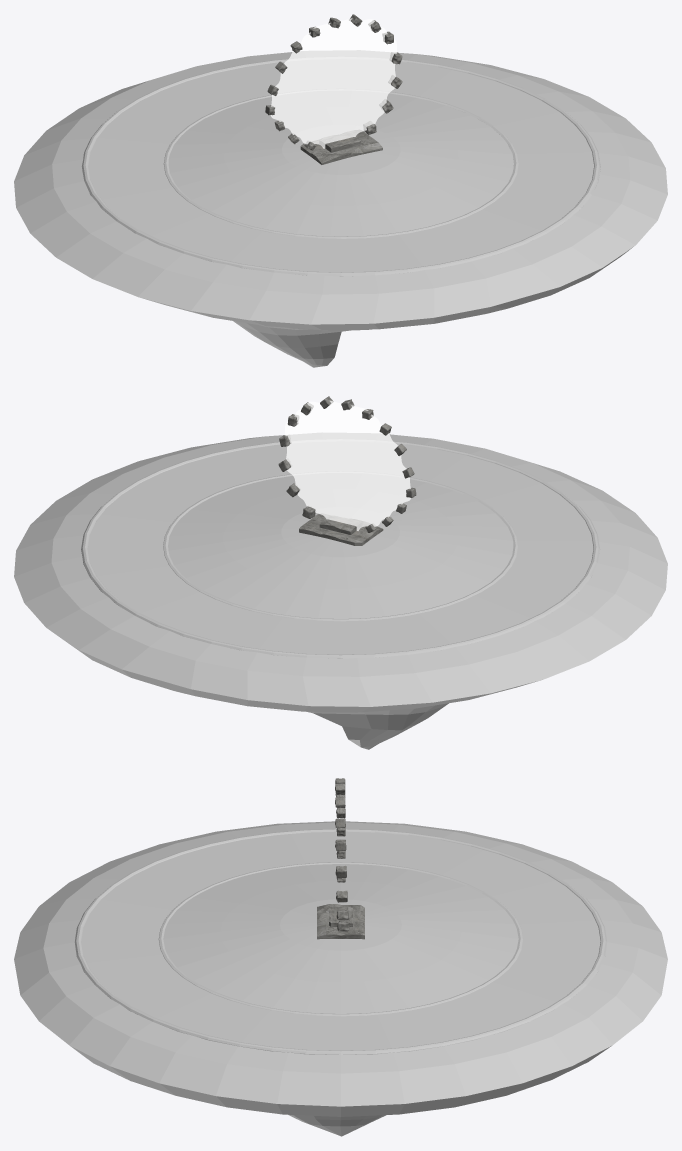
The model's file is Island.gltf.
3 renders of one model, top to bottom at view 1: azimuth 30°, elevation 25°; view 2: azimuth 150°, elevation 25°; view 3: azimuth 270°, elevation 25°, orthographic. The views are drawn at different scales.
Visible parts, largest first — view 1: Sphere, Plane, Torus.001, Torus, Cube.002, Cube.001; view 2: Sphere, Plane, Torus.001, Torus, Cube.002, Cube.001; view 3: Sphere, Torus.001, Torus, Cube.002.
Part boxes in pixels (box(x1,y1,x2,y2)): Sphere: box(14, 50, 667, 367); Plane: box(270, 18, 396, 148); Torus.001: box(82, 56, 600, 276); Torus: box(163, 89, 518, 238); Cube.002: box(300, 130, 382, 164); Cube.001: box(319, 134, 361, 152); Sphere: box(14, 432, 667, 749); Plane: box(285, 400, 410, 530); Torus.001: box(81, 439, 599, 658); Torus: box(163, 471, 518, 621); Cube.002: box(299, 513, 383, 545); Cube.001: box(319, 516, 362, 534); Sphere: box(14, 821, 667, 1136); Torus.001: box(74, 829, 607, 1054); Torus: box(158, 862, 523, 1016); Cube.002: box(317, 904, 364, 939).
Size of the model in its own units: 17.6 by 10.16 by 17.04.
